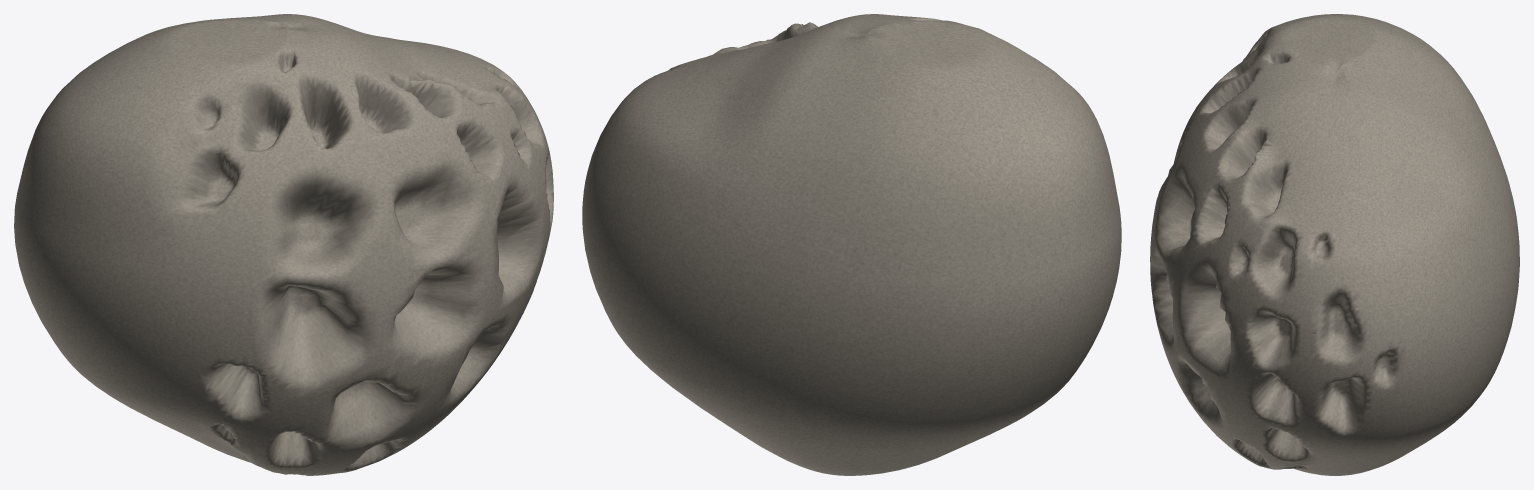
3 renders of one model, left to right at view 1: azimuth 30°, elevation 25°; view 2: azimuth 150°, elevation 25°; view 3: azimuth 270°, elevation 25°, orthographic. The views are drawn at different scales.
Parts seen in each view (by area): view 1: NEW677_LOD2; view 2: NEW677_LOD2; view 3: NEW677_LOD2.
Part boxes in pixels (x1,y1,x2,y2): NEW677_LOD2: (14, 14, 553, 475); NEW677_LOD2: (582, 14, 1121, 475); NEW677_LOD2: (1150, 14, 1519, 475).
Size of the model in its own units: 1.6 by 1.35 by 1.15.
Materials: 1 (1 with a texture image).
